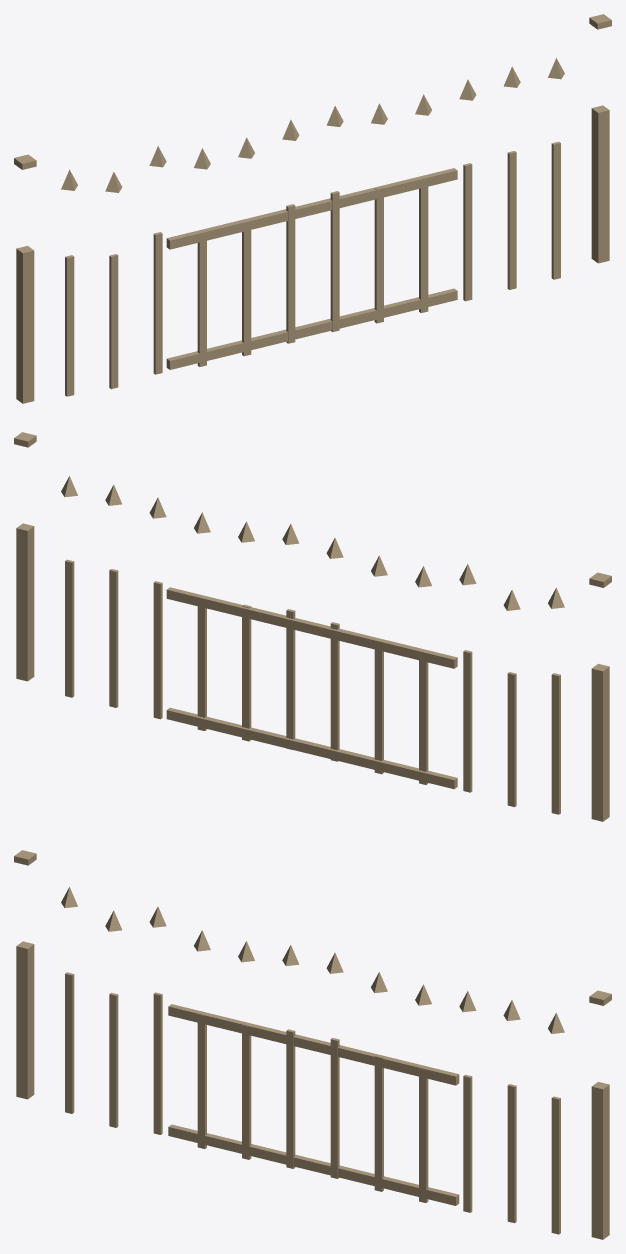
Rendered from picket_fence.glb.
3 renders of one model, top to bottom at view 1: azimuth 30°, elevation 25°; view 2: azimuth 150°, elevation 25°; view 3: azimuth 330°, elevation 25°, orthographic.
Visible parts, largest first — view 1: picket_fence; view 2: picket_fence; view 3: picket_fence.
Part boxes in pixels (x1=…): picket_fence: x1=14, y1=14, x2=611, y2=403; picket_fence: x1=14, y1=432, x2=611, y2=821; picket_fence: x1=14, y1=850, x2=611, y2=1239.
Bounding box in the file's own units: 2.05 × 0.8305 × 0.06.
